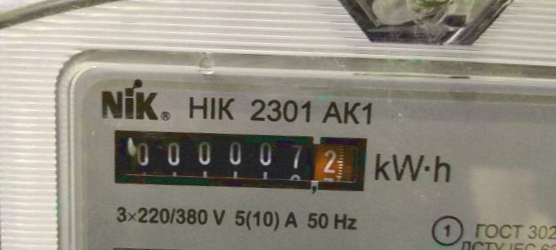0: (195, 138, 215, 166), (165, 138, 183, 167), (257, 138, 275, 167), (134, 138, 152, 166), (227, 137, 244, 165)
2: (322, 145, 339, 175)
7: (287, 140, 305, 170)
screen: (104, 115, 380, 201)
